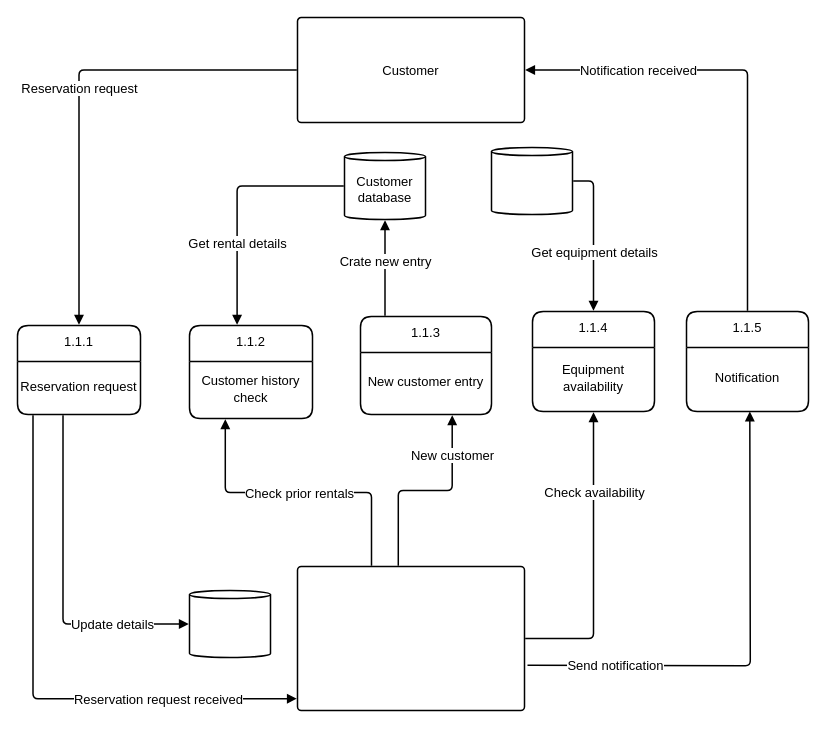
Some shapes in this 827 by 729 pixel diagram are drawn without their labels. The shapes that lost their labels are listed below. From the top down, each one's box as (x1, y1, x2, y2) in pixels, then its label:
(490, 146, 573, 215): Equipment databse
(188, 589, 271, 658): Reservation table
(296, 565, 525, 711): Employee
